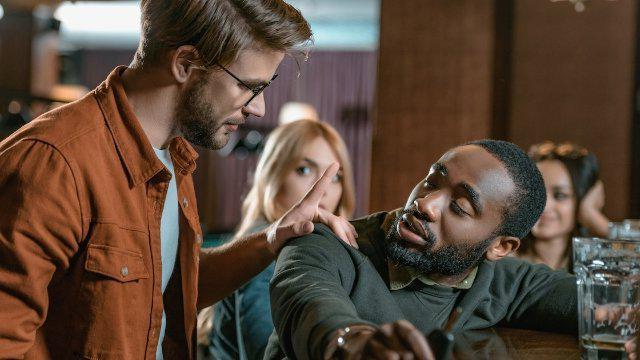Drunk: (402, 145, 502, 261)
